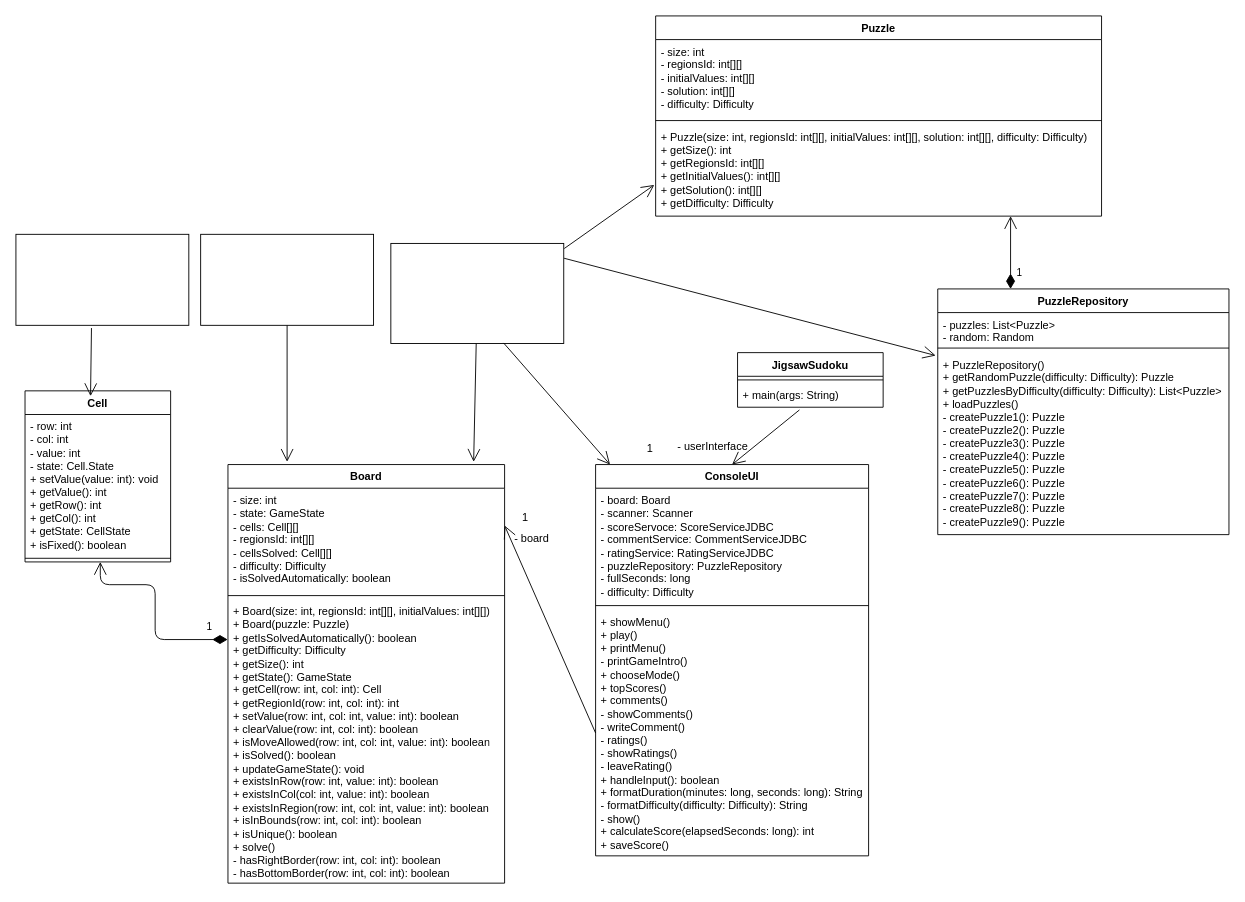
Some shapes in this 1245 by 902 pixel diagram are drawn without their labels. Each missing label, with the box of its shape:
<< enumaration >> Cell.State + FIXED + EDITABLE: (15, 233, 189, 325)
<< enumaration >> Difficulty + EASY + NORMAL + HARD: (390, 243, 564, 344)
<< enumaration >> GameState + PLAYING + SOLVED: (200, 233, 374, 325)
